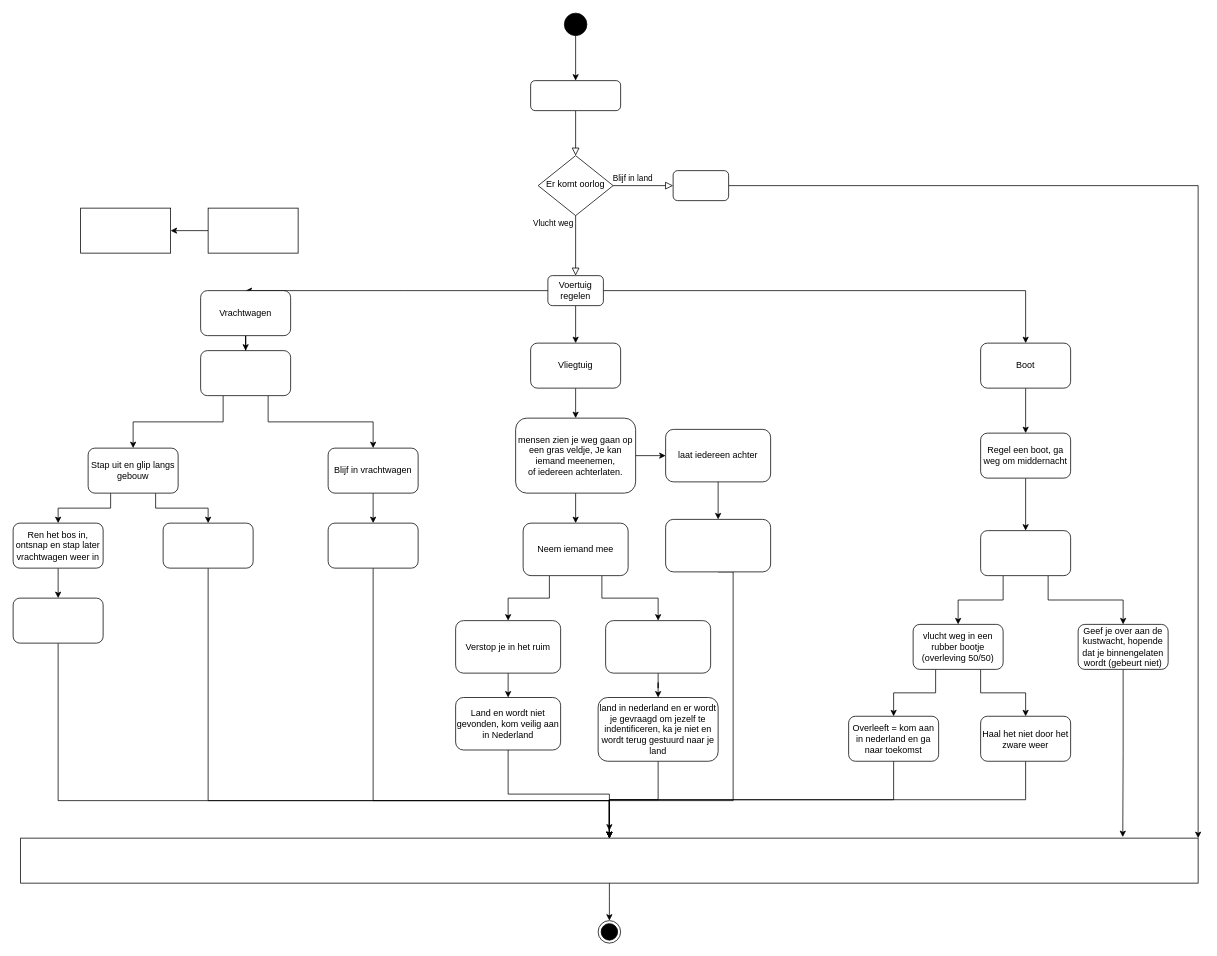
The diagram is 1217 pixels wide and 956 high, and some of its shapes have lost their labels. Each missing label, with the centre of its shape:
"blijf in de pasagiersruimte" belongs at point (658, 646).
"Geef je over aan wachters, terug gestuurd naar land" belongs at point (207, 545).
"In het land" belongs at point (575, 95).
"Kom aan in nederland" belongs at point (57, 620).
"overleef het niet" belongs at point (700, 185).
"Tol gebouw grens" belongs at point (245, 373).
"Wordt gevonden door kustwacht, en tegengehouden" belongs at point (1025, 553).
"Wordt gevonden en terug gestuurd naar land" belongs at point (372, 545).
"Wordt tegengehouden door de mensen die het hebben gezien (begin opnieuw)" belongs at point (718, 545).
